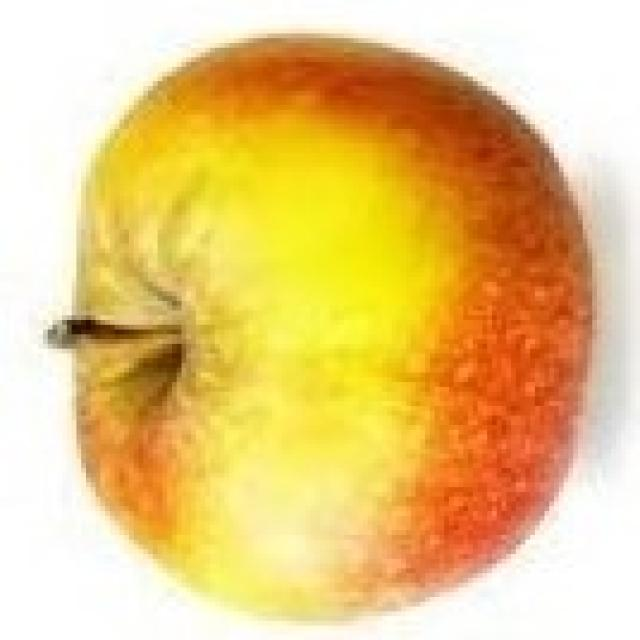75-_ripeness: (68, 29, 593, 626)
